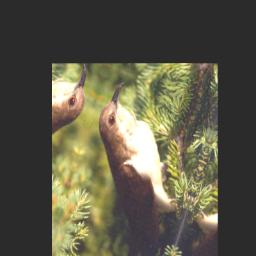Cuckoo: (62, 76, 206, 256)
